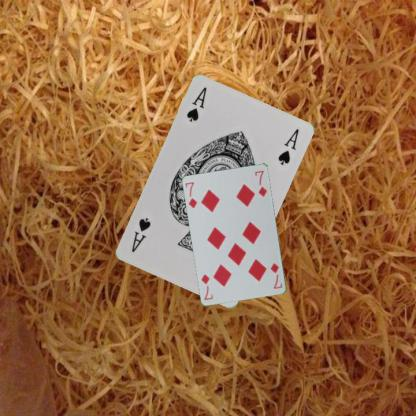7d: (268, 261, 284, 290), (183, 180, 198, 210)
As: (184, 84, 208, 124)
